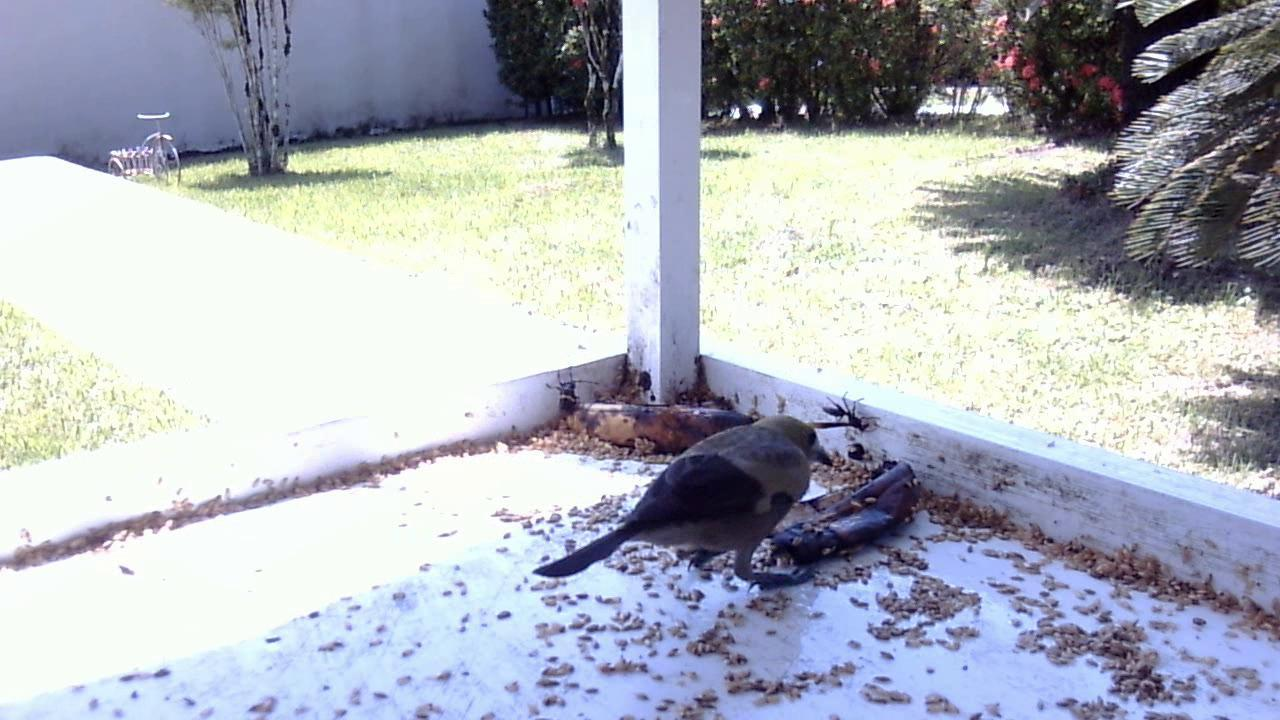sanhaco_do_coqueiro: (523, 403, 838, 606)
